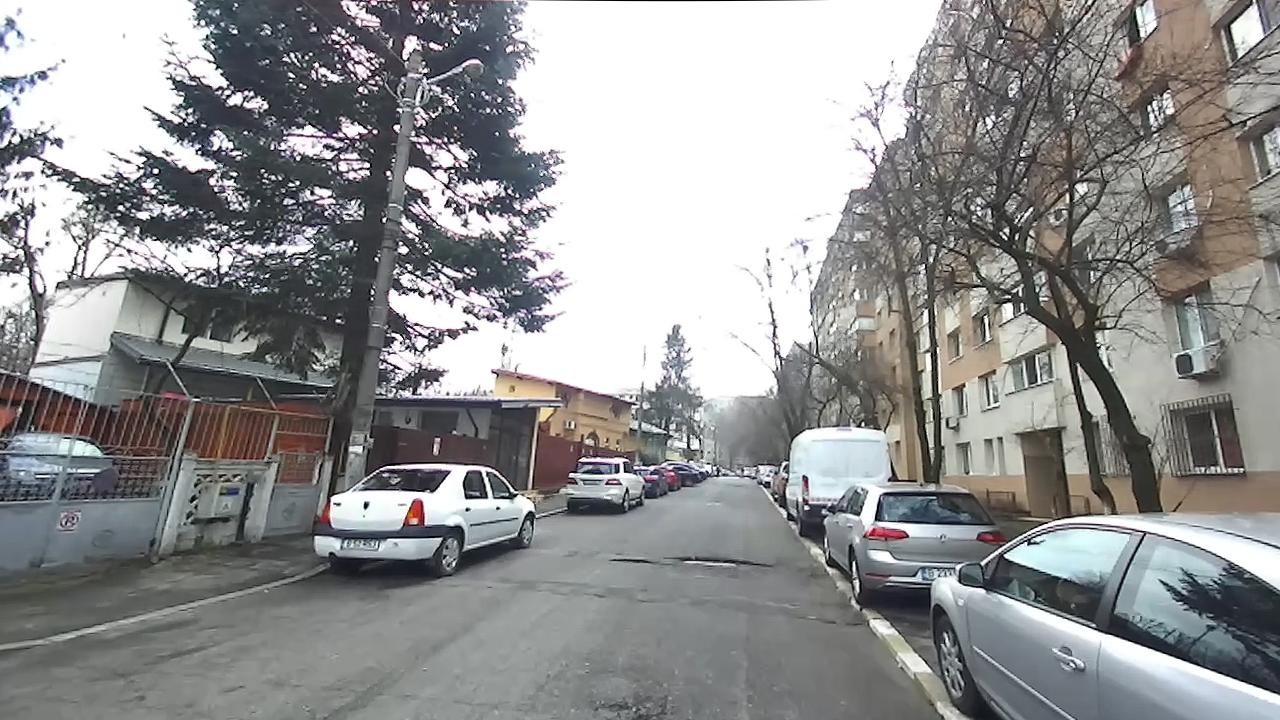pothole: (597, 699, 663, 720), (676, 555, 771, 569), (610, 558, 655, 564)
